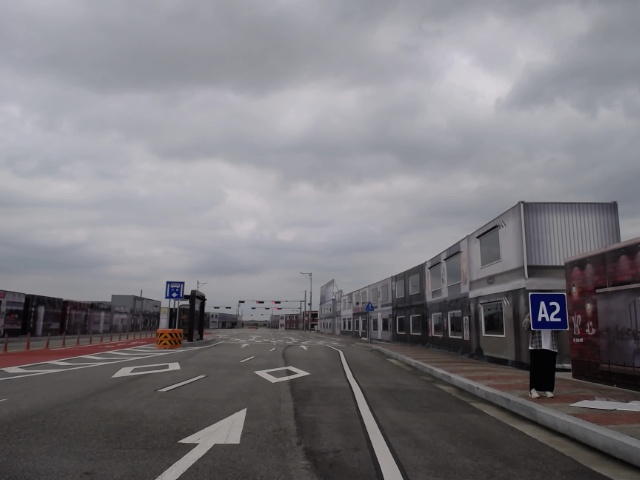delivery_a2: (529, 293, 569, 331)
